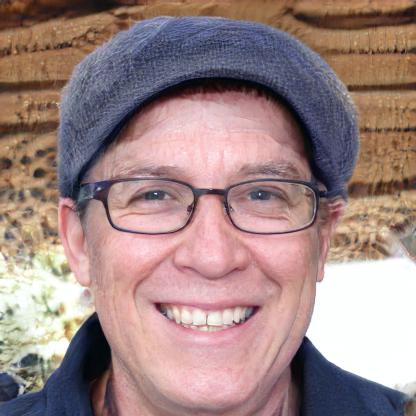glasses: (76, 173, 325, 241)
